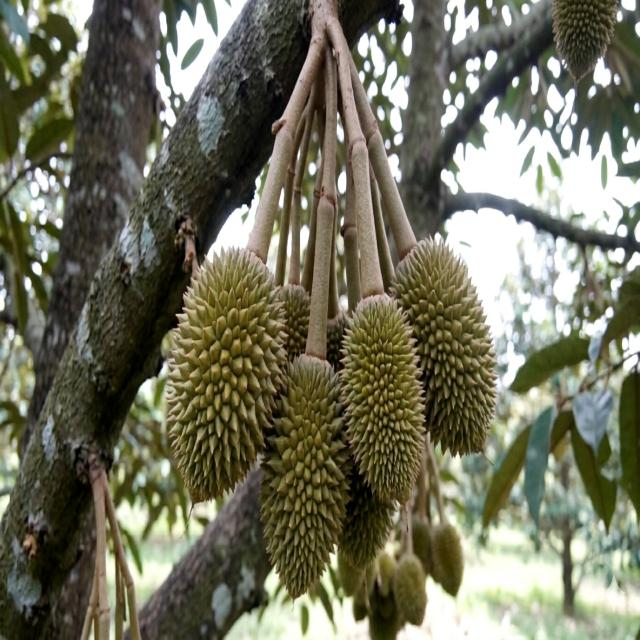immature: (165, 244, 287, 506), (391, 234, 500, 462), (258, 352, 352, 601), (338, 291, 426, 507), (165, 332, 215, 503), (392, 236, 463, 340), (551, 2, 618, 80), (276, 284, 314, 364), (366, 560, 402, 636), (429, 520, 464, 597), (393, 552, 428, 627), (391, 245, 424, 311), (326, 304, 350, 372)
